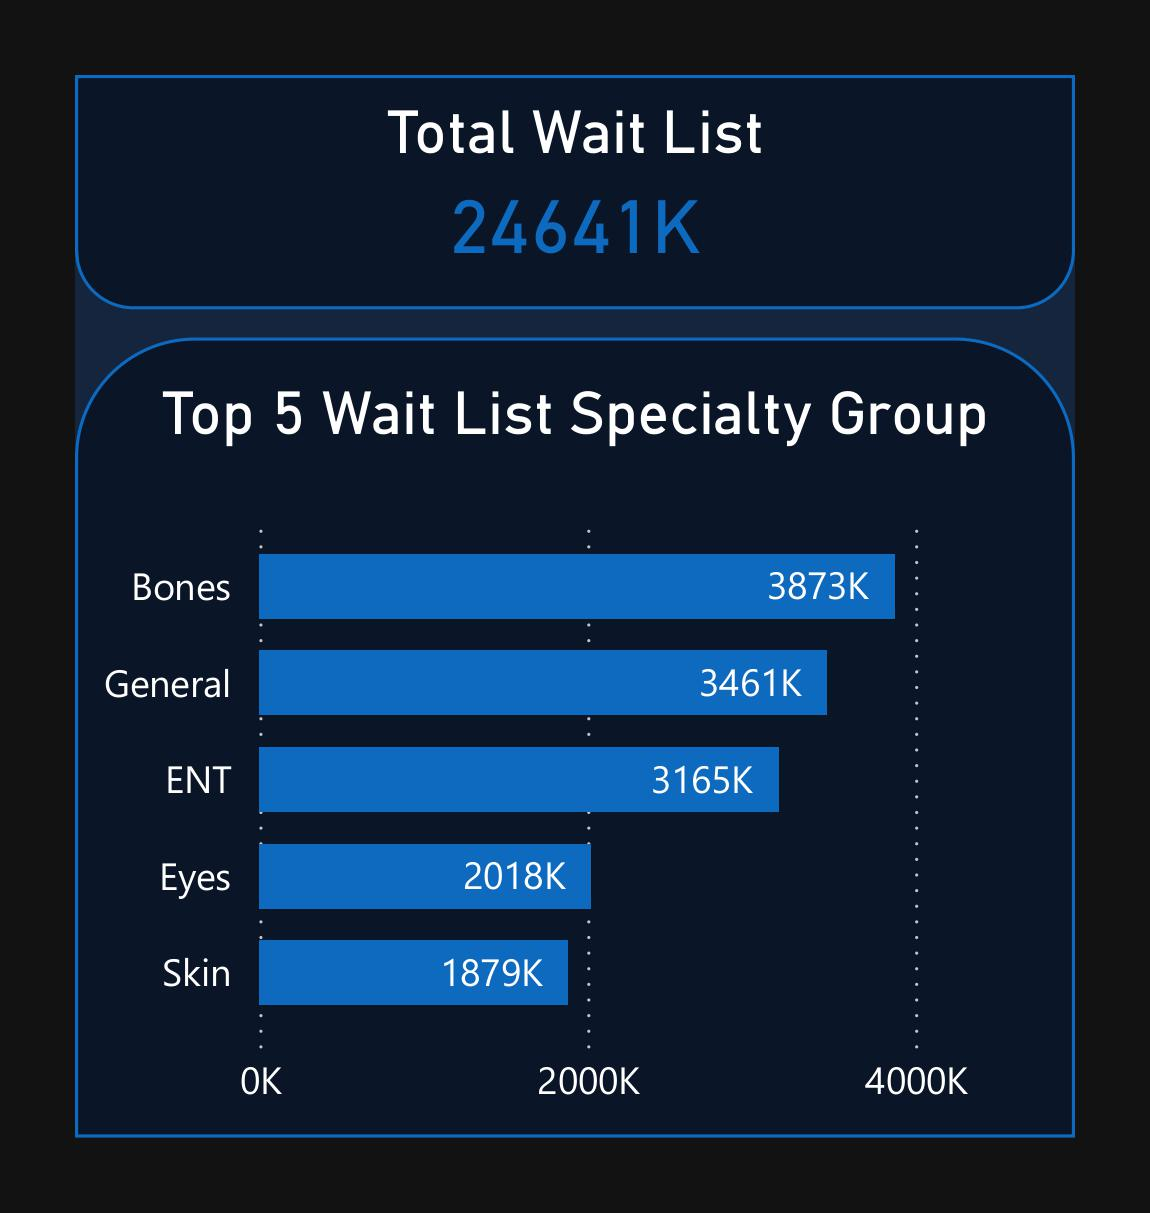

The dashboard page shown, as its layout file describes it:
{"tool":"powerbi","page":{"name":"Tooltip","canvas":[320,340],"ordinal":2},"visuals":[{"type":"shape","box":[0,0,320,75],"z":0},{"type":"shape","box":[0,84,320,256],"z":1000},{"type":"barChart","fields":{"Category":["specialityMap.Specialty Group"],"Y":["Sum(all_data.Total)"]},"box":[0,128,320,212],"z":2000},{"type":"card","fields":{"Values":["Sum(all_data.Total)"]},"box":[70,27,180,41],"z":3000},{"type":"textbox","box":[66,2,188,36],"z":4000},{"type":"textbox","box":[12,92,296,36],"z":5000}]}

Visuals, with their boxes on the page's 320x340 design canvas (x1, y1, x2, y2). These are canvas units, not pixel positions in the 1150x1213 screenshot, which may show the page scaled, cropped or inside an application window:
shape: (x1=0, y1=0, x2=320, y2=75)
shape: (x1=0, y1=84, x2=320, y2=340)
barChart - specialityMap.Specialty Group x Sum(all_data.Total): (x1=0, y1=128, x2=320, y2=340)
card - Sum(all_data.Total): (x1=70, y1=27, x2=250, y2=68)
textbox: (x1=66, y1=2, x2=254, y2=38)
textbox: (x1=12, y1=92, x2=308, y2=128)
